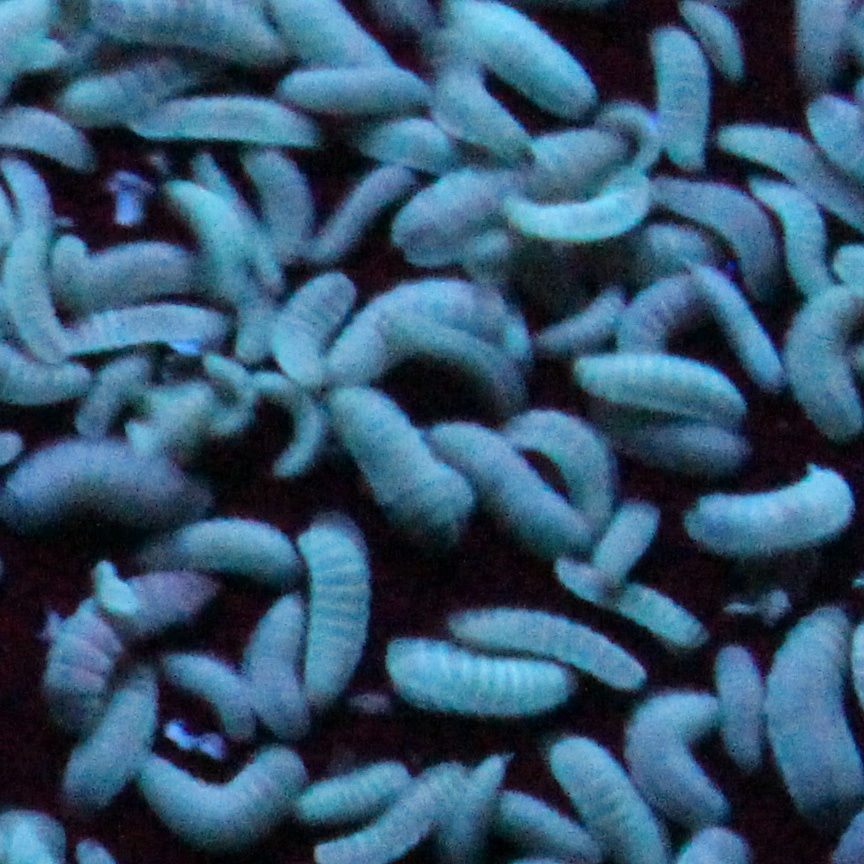larve: (385, 130, 634, 261), (332, 390, 472, 543), (334, 281, 529, 390), (435, 423, 591, 554), (449, 593, 646, 688), (141, 742, 306, 843), (13, 438, 210, 521), (380, 633, 584, 712), (625, 692, 741, 824), (680, 252, 784, 397), (296, 505, 370, 707), (684, 466, 856, 552), (556, 559, 713, 650), (570, 350, 761, 424), (61, 669, 158, 802), (506, 411, 618, 524), (432, 42, 534, 166), (501, 166, 658, 240), (163, 178, 253, 304), (304, 162, 413, 266), (144, 519, 308, 581), (125, 97, 322, 143), (647, 31, 710, 174), (249, 373, 334, 478), (161, 654, 253, 745), (13, 230, 73, 369), (253, 597, 310, 735), (68, 305, 232, 352), (284, 273, 354, 383), (70, 243, 206, 299), (710, 642, 760, 771), (284, 73, 432, 114), (303, 761, 408, 816), (542, 292, 630, 354), (615, 424, 749, 461), (601, 492, 656, 576)
